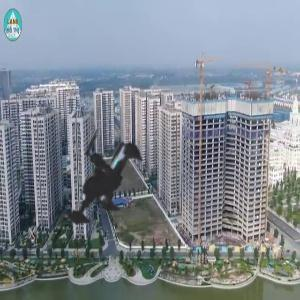drone: (14, 88, 211, 285)
